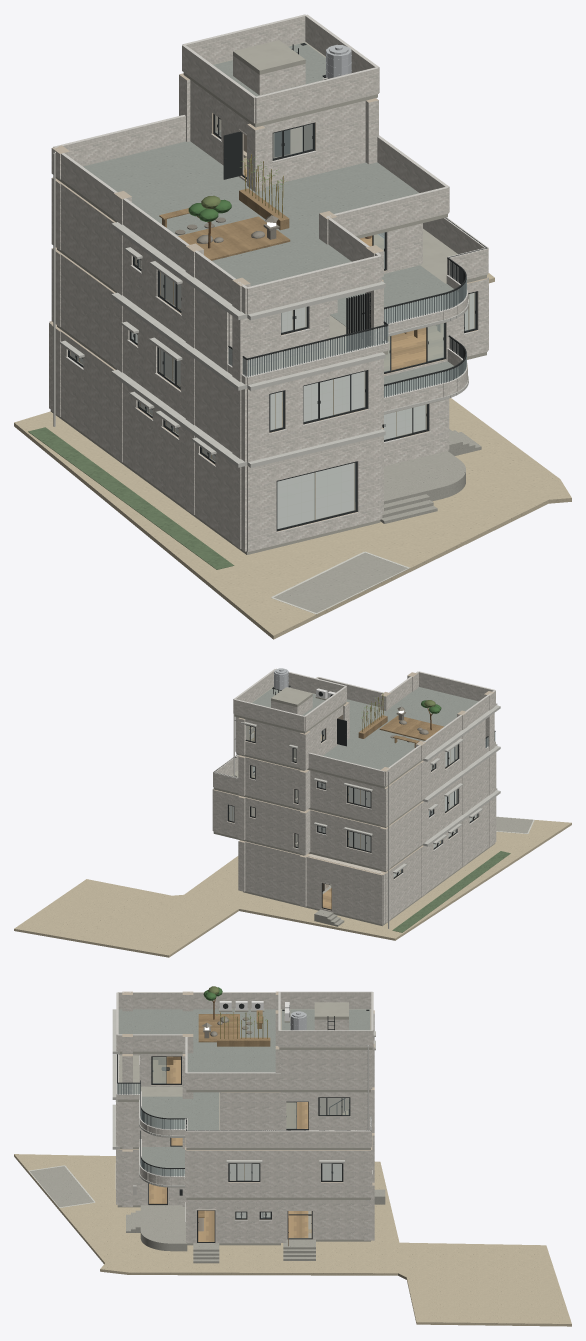
Rendered from wabisabi.glb.
3 views of the same model, one above another, from view 1: azimuth 30°, elevation 25°; view 2: azimuth 150°, elevation 25°; view 3: azimuth 270°, elevation 25° (orthographic). The views are drawn at different scales.
Parts seen in each view (by area): view 1: SITE_site_ground, FLOOR_1_wall_facade, FLOOR_2_wall_facade, FLOOR_4_floor_finish_terrace, FLOOR_4_parapet_facade, FLOOR_3_wall_facade, ROOF_parapet_facade, SITE_site_porch, FLOOR_4_wall_facade, FLOOR_1_window_glass, STYLE_wabisabi_1_wallmount_washi, FLOOR_3_railing_metal (+35 smaller); view 2: SITE_site_ground, FLOOR_1_wall_facade, FLOOR_2_wall_facade, FLOOR_3_wall_facade, FLOOR_4_floor_finish_terrace, FLOOR_4_parapet_facade, ROOF_parapet_facade, FLOOR_4_wall_facade, FLOOR_2_column_facade, FLOOR_3_column_facade, FLOOR_1_column_facade, FLOOR_4_column_facade (+25 smaller); view 3: SITE_site_ground, FLOOR_2_wall_facade, FLOOR_1_wall_facade, FLOOR_4_floor_finish_terrace, SITE_site_porch, FLOOR_3_wall_facade, FLOOR_4_parapet_facade, FLOOR_4_wall_facade, FLOOR_3_parapet_facade, ROOF_parapet_facade, FLOOR_3_floor_finish_terrace, STYLE_wabisabi_4_furniture_oak (+24 smaller).
Boxes of the visible parts, x1,y1,x2,y2 form: SITE_site_ground: (14,273,571,639); FLOOR_1_wall_facade: (49,322,449,551); FLOOR_2_wall_facade: (60,254,488,461); FLOOR_4_floor_finish_terrace: (83,141,419,286); FLOOR_4_parapet_facade: (53,116,449,314); FLOOR_3_wall_facade: (60,184,422,371); ROOF_parapet_facade: (182,16,379,123); SITE_site_porch: (274,429,481,614); FLOOR_4_wall_facade: (190,80,376,186); FLOOR_1_window_glass: (70,352,426,528); STYLE_wabisabi_1_wallmount_washi: (71,352,425,528); FLOOR_3_railing_metal: (228,217,487,376); SITE_site_ground: (14,820,571,957); FLOOR_1_wall_facade: (245,797,496,924); FLOOR_2_wall_facade: (212,752,496,868); FLOOR_3_wall_facade: (245,719,485,824); FLOOR_4_floor_finish_terrace: (323,687,478,769); FLOOR_4_parapet_facade: (235,672,495,786); ROOF_parapet_facade: (233,671,346,731); FLOOR_4_wall_facade: (235,706,342,767); FLOOR_2_column_facade: (238,753,494,871); FLOOR_3_column_facade: (238,713,494,826); FLOOR_1_column_facade: (238,798,494,922); FLOOR_4_column_facade: (238,674,494,786); SITE_site_ground: (14,1154,571,1326); FLOOR_2_wall_facade: (116,1100,372,1197); FLOOR_1_wall_facade: (116,1149,363,1243); FLOOR_4_floor_finish_terrace: (118,1009,275,1072); SITE_site_porch: (30,1166,385,1263); FLOOR_3_wall_facade: (139,1054,363,1130); FLOOR_4_parapet_facade: (116,993,280,1089); FLOOR_4_wall_facade: (279,1050,372,1089); FLOOR_3_parapet_facade: (116,1054,371,1147); ROOF_parapet_facade: (278,992,373,1047); FLOOR_3_floor_finish_terrace: (142,1092,218,1130); STYLE_wabisabi_4_furniture_oak: (198,1010,270,1046).
Bounding box in the file's own units: 26.38 × 16.92 × 36.59.
Materials: 47 (26 with a texture image).
